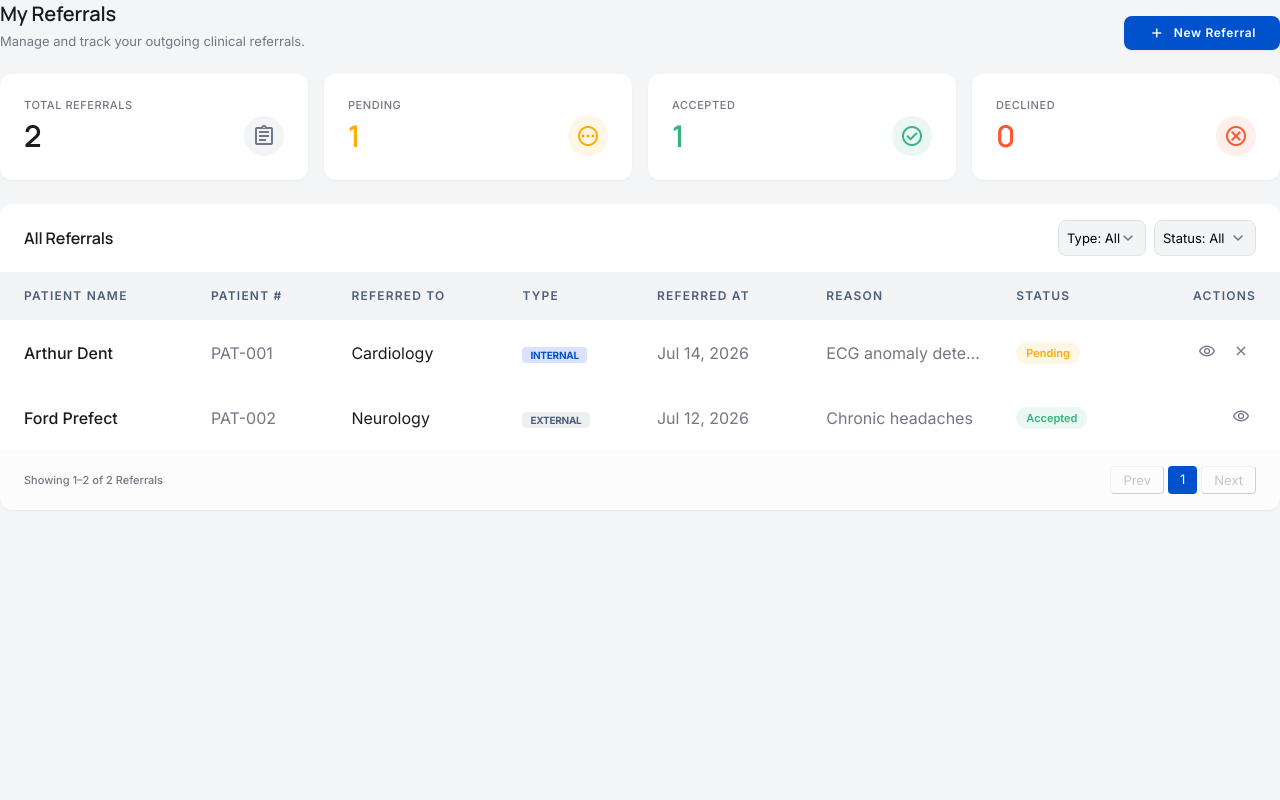
it: MyReferralsPage › opens New Referral Modal when clicking New Referral button
Expected: the text "Arthur Dent" is shown, [0,320,195,385]
Click the button "New Referral" at (1202, 33), box [1124,16,1279,50]
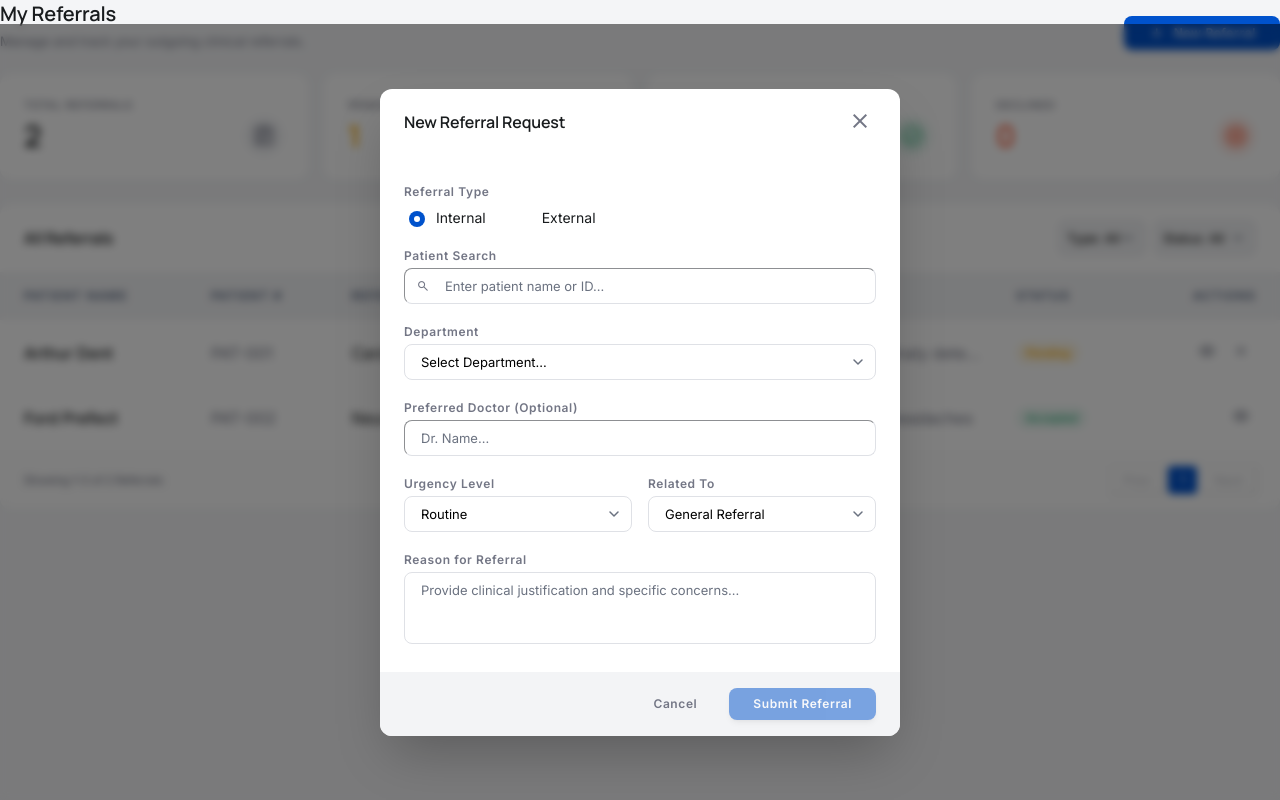
Expected: the dialog is shown
